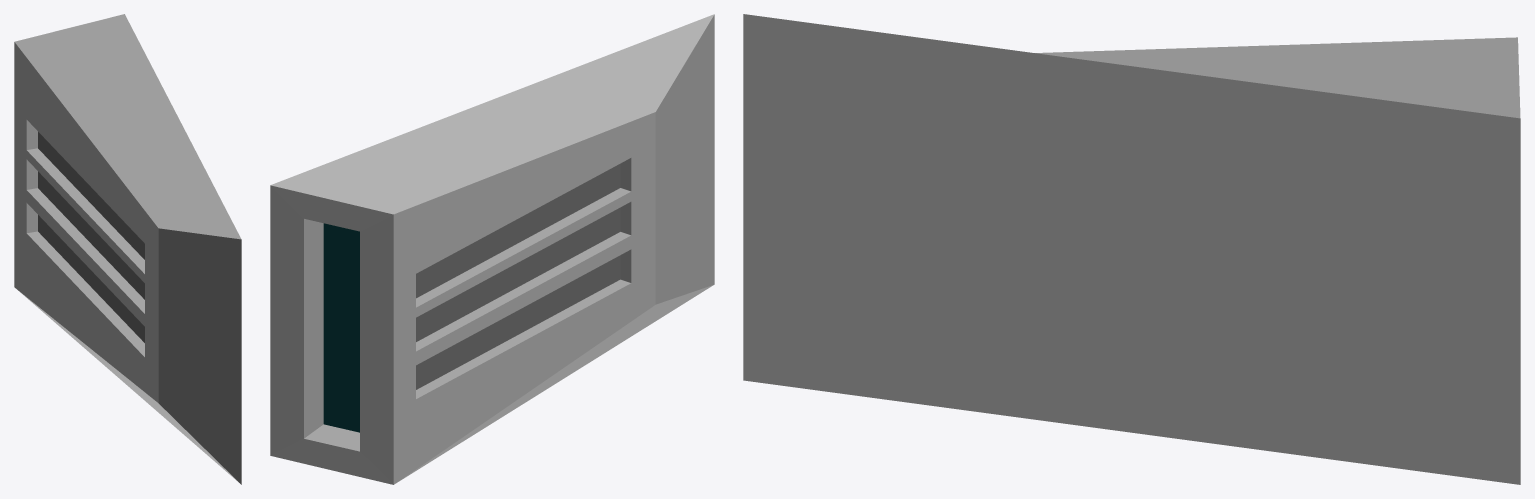
File: RetroThruster.glb
3 views of the same model, side by side, from view 1: azimuth 30°, elevation 25°; view 2: azimuth 150°, elevation 25°; view 3: azimuth 270°, elevation 25° (orthographic). The views are drawn at different scales.
Visible parts, largest first — view 1: Retro Thruster.002; view 2: Retro Thruster.002; view 3: Retro Thruster.002.
Part boxes in pixels (<box>): Retro Thruster.002: <box>14,14,241,484</box>; Retro Thruster.002: <box>270,14,714,484</box>; Retro Thruster.002: <box>743,14,1520,484</box>.
Bounding box in the file's own units: 2.29 × 3.4 × 6.53.
